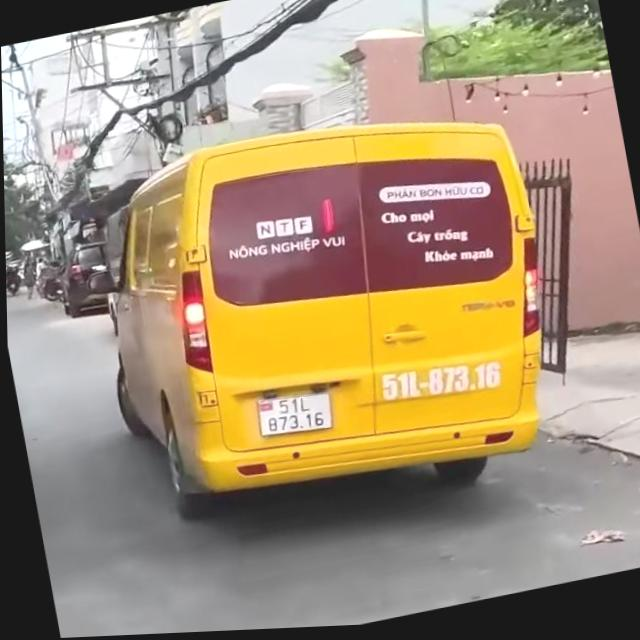car: (73, 82, 587, 566)
plate: (249, 377, 341, 449)
